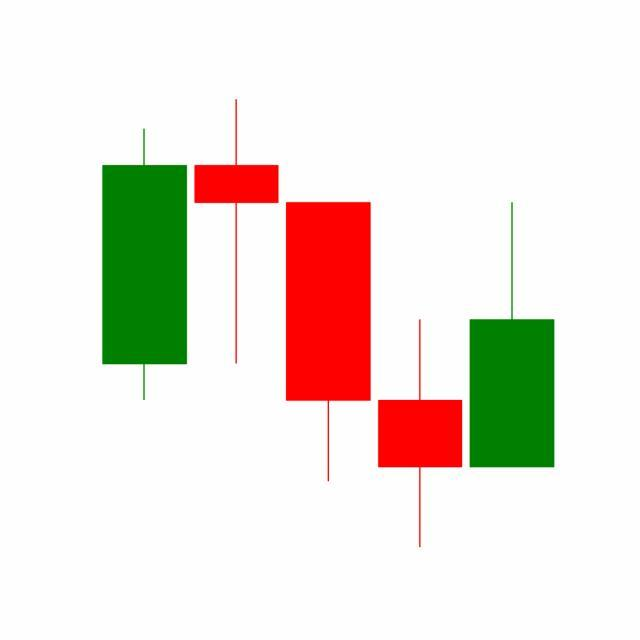Spinning Top: (374, 317, 468, 551)
